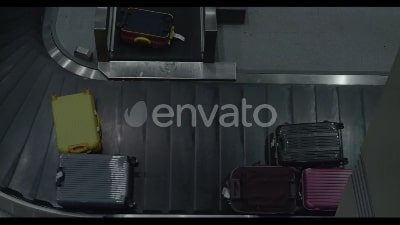baggage: (54, 150, 140, 212), (217, 164, 303, 220), (267, 119, 349, 168), (46, 88, 103, 154), (117, 10, 194, 50), (295, 167, 353, 213)
